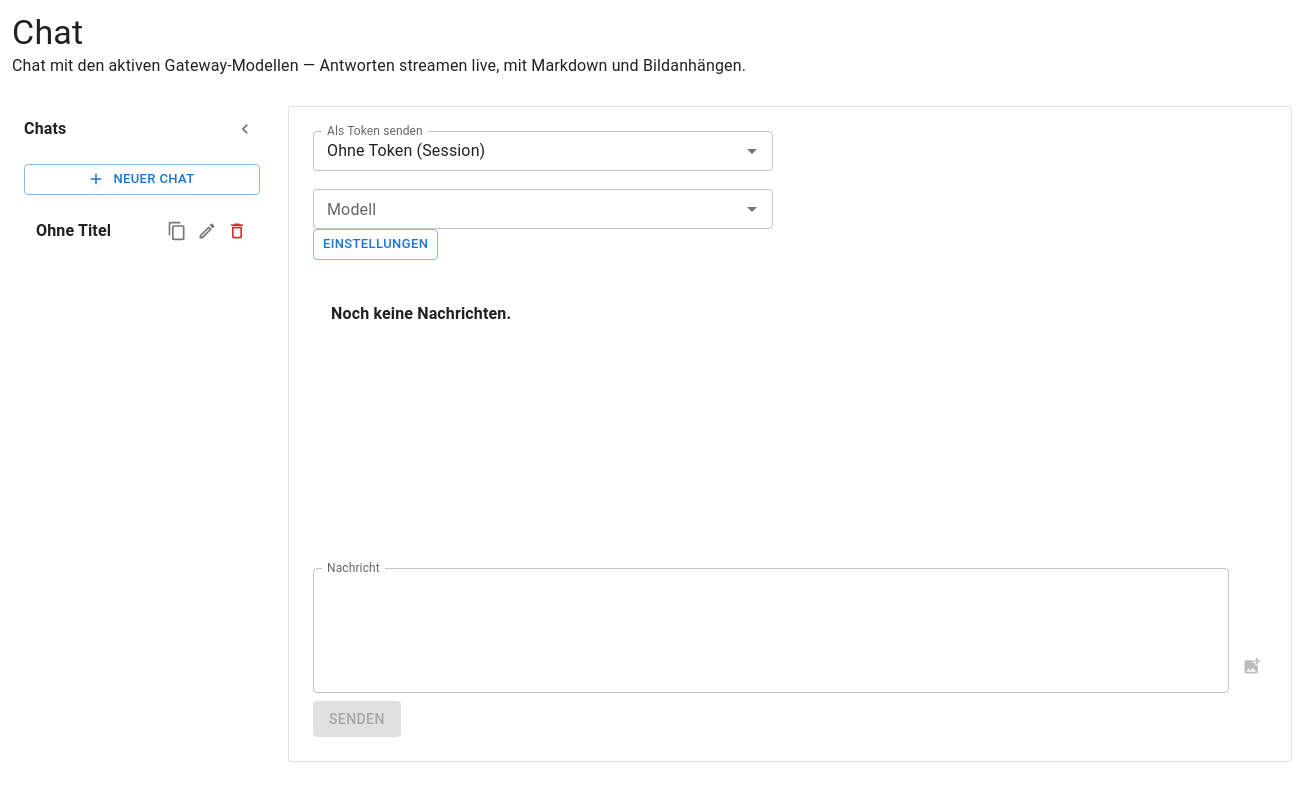
Scenario: shows a green loaded dot BEFORE the name once a loaded model is selected
The image size is (1304, 812).
Expected: the text "Ohne Titel" is shown, [36, 221, 111, 240]
Press the mouse on the dropdown labelled "Modell" at (526, 209), box [319, 195, 734, 223]
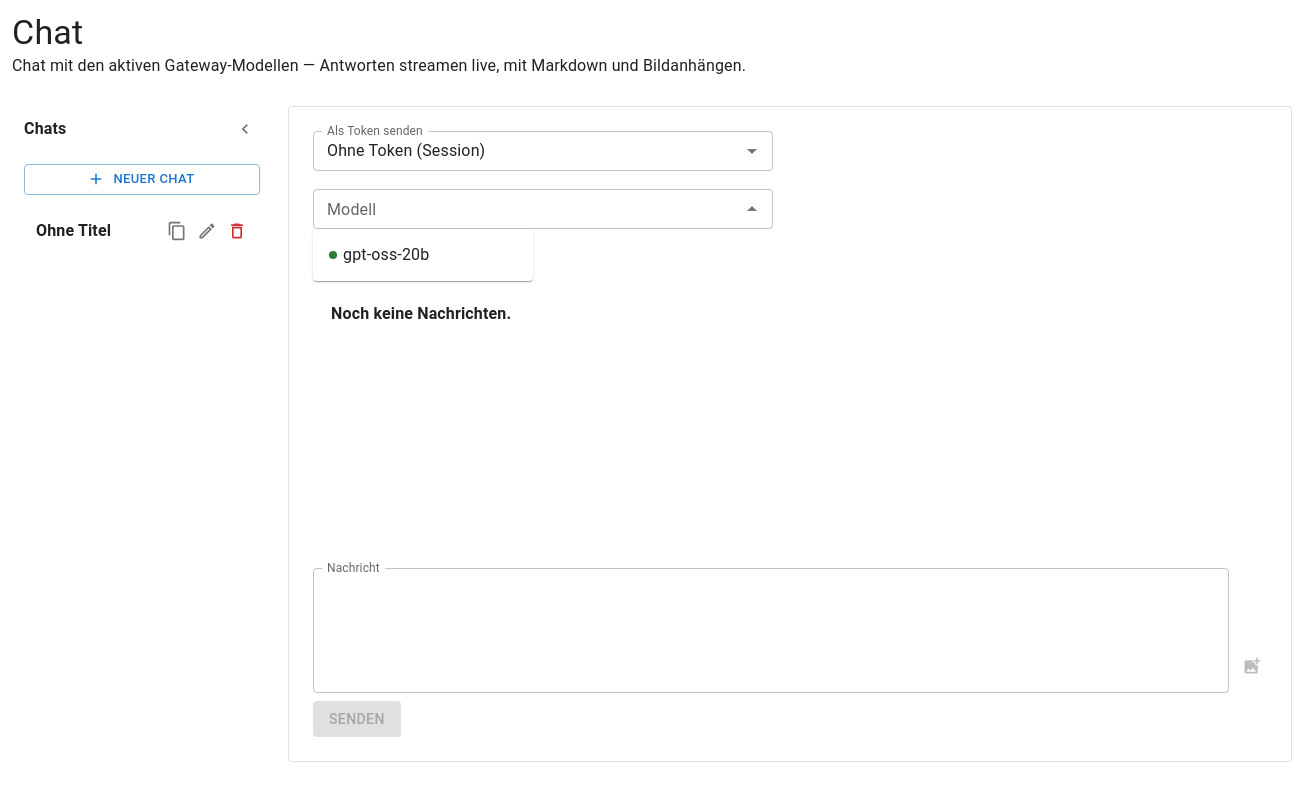
Click the option "gpt-oss-20b". click: (379, 254)
box: [329, 245, 429, 264]
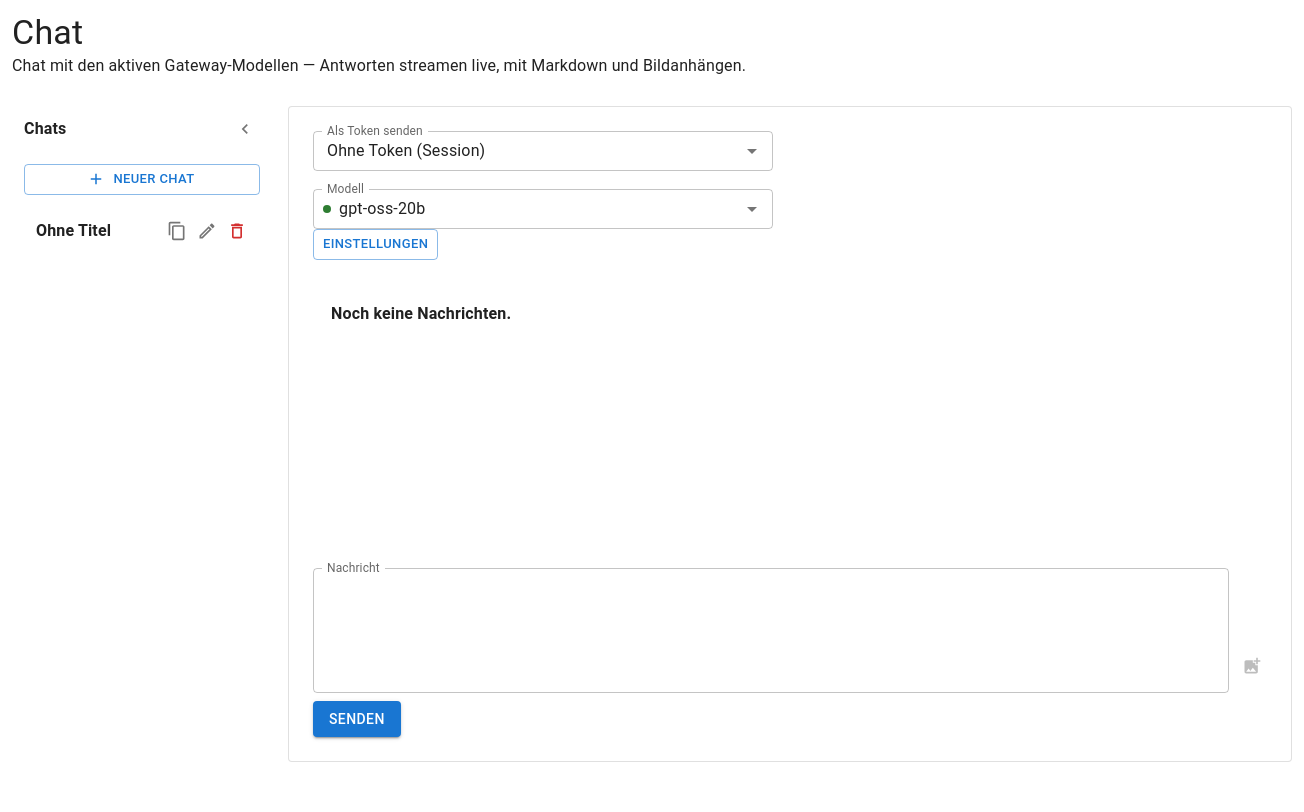
Expected: the element with test id "searchable-select-loaded-dot" is shown, [323, 205, 331, 213]
